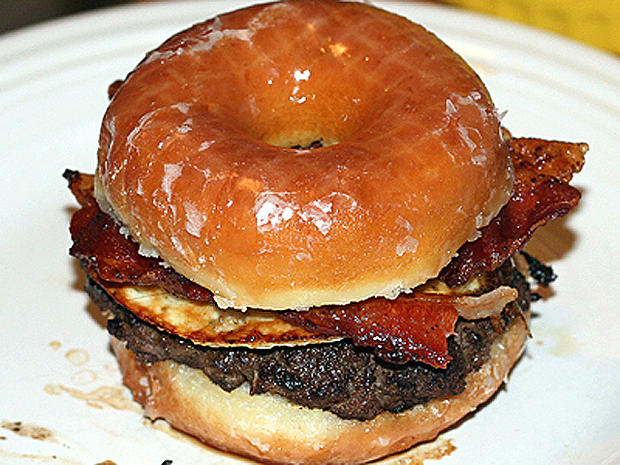hamburger_buns: (95, 9, 535, 272)
